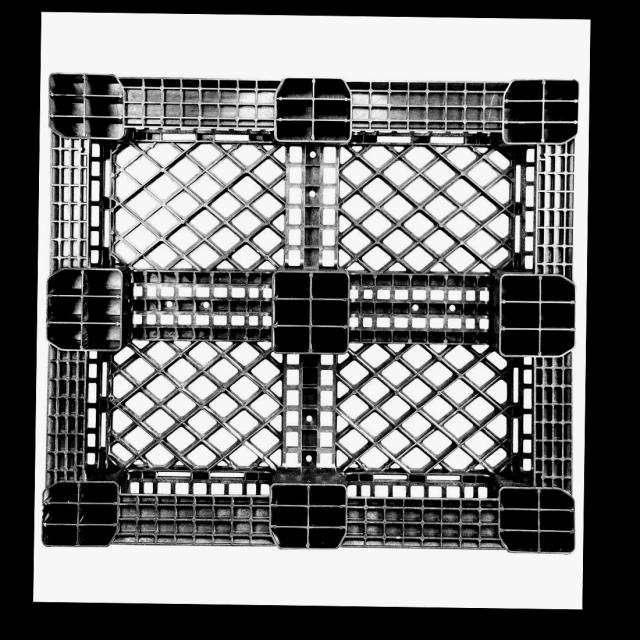non-igps: (37, 68, 584, 560)
